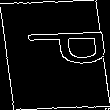P_E: (5, 35, 105, 75)
